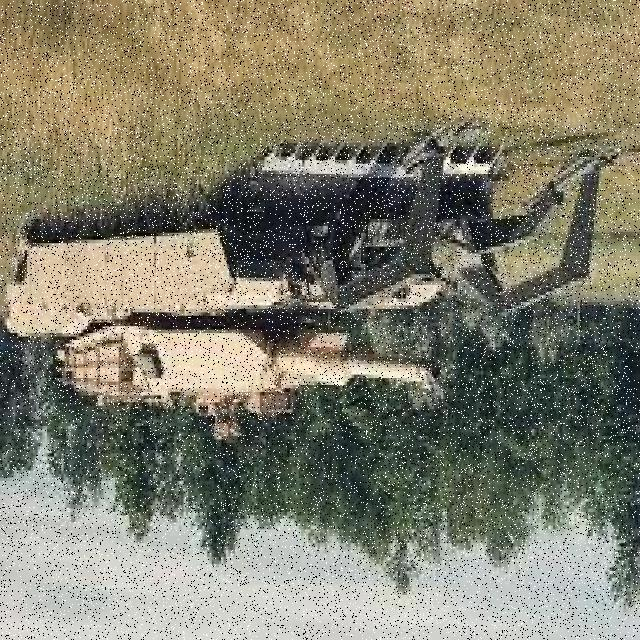MIL_MBT: (10, 119, 610, 425)
